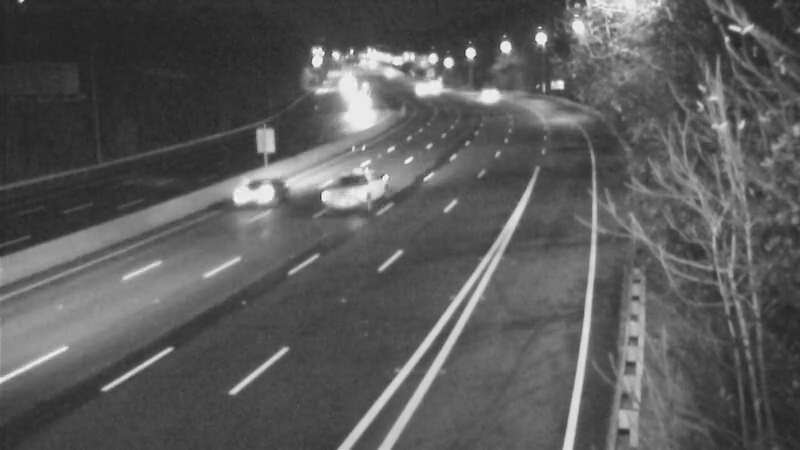vehicle: (305, 148, 385, 228), (214, 154, 294, 234), (390, 63, 440, 113), (466, 69, 516, 119), (331, 86, 381, 136)
